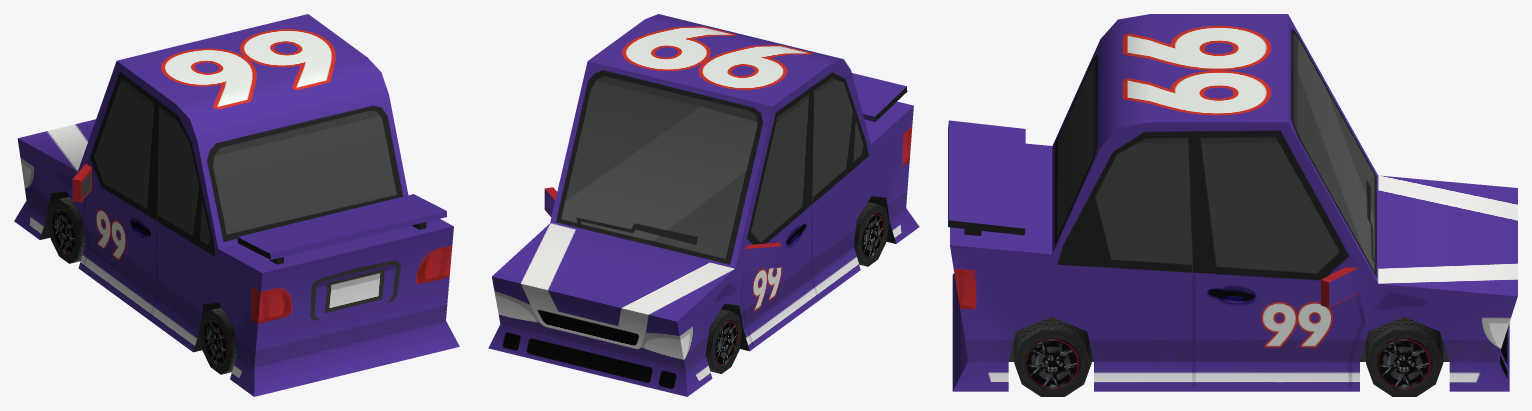
The model's file is sportscar_purple_collada_14.dae.
3 renders of one model, left to right at view 1: azimuth 30°, elevation 25°; view 2: azimuth 150°, elevation 25°; view 3: azimuth 270°, elevation 25°, orthographic. The views are drawn at different scales.
Visible parts, largest first — view 1: sportscar_purple_body, wheelBL, wheelFL; view 2: sportscar_purple_body, wheelFL, wheelBL; view 3: sportscar_purple_body, wheelFR, wheelBR.
Part boxes in pixels (left/top/right/bottom): sportscar_purple_body: left=14, top=14, right=459, bottom=396; wheelBL: left=199, top=307, right=236, bottom=374; wheelFL: left=47, top=196, right=85, bottom=263; sportscar_purple_body: left=488, top=14, right=919, bottom=396; wheelFL: left=705, top=309, right=742, bottom=373; wheelBL: left=854, top=201, right=888, bottom=266; sportscar_purple_body: left=948, top=14, right=1517, bottom=391; wheelFR: left=1366, top=316, right=1443, bottom=396; wheelBR: left=1014, top=316, right=1091, bottom=396.
Bounding box in the file's own units: 242 × 222 × 420.
Materials: 1 (1 with a texture image).
